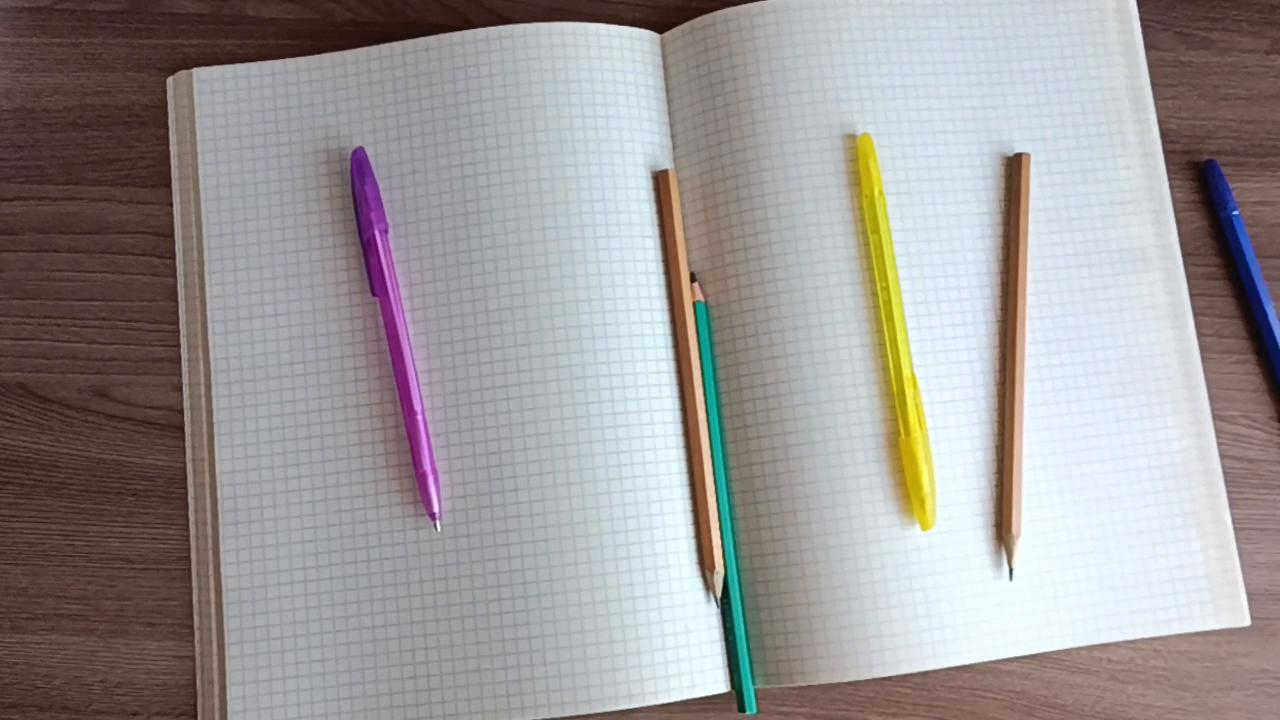pen: (343, 145, 447, 536), (847, 127, 940, 538), (1196, 147, 1280, 417)
pencil: (687, 264, 764, 720), (650, 162, 728, 607), (999, 149, 1032, 591)
